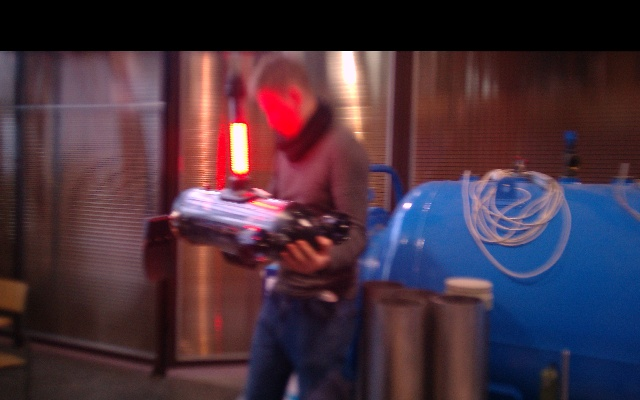red: (229, 122, 250, 177)
